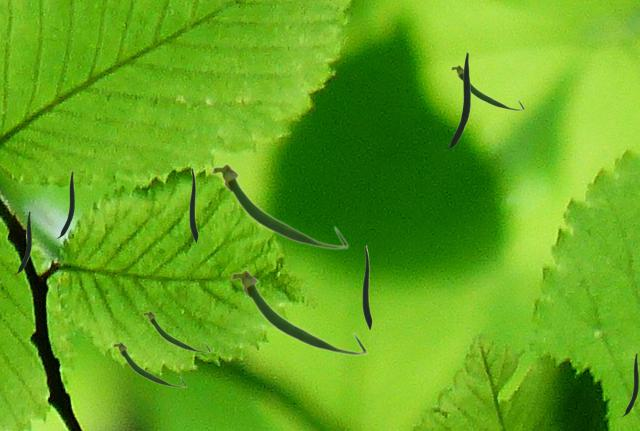french_bean: (229, 269, 367, 355), (210, 163, 348, 249), (112, 341, 186, 387), (450, 64, 524, 110), (142, 310, 210, 352), (445, 52, 469, 149), (57, 171, 73, 237), (15, 211, 30, 273), (622, 353, 637, 415), (362, 245, 371, 329), (189, 167, 197, 242)
